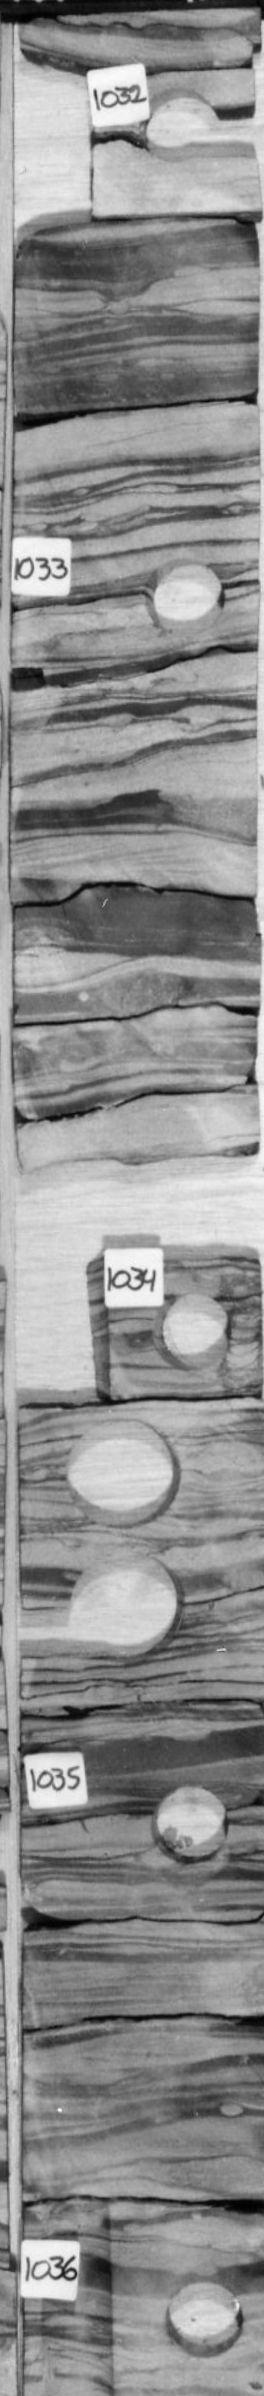hplug: (61, 1546, 188, 1672), (140, 546, 237, 640), (148, 1771, 237, 1873), (159, 2271, 253, 2365), (143, 1287, 238, 1375), (136, 86, 223, 167)
scal: (56, 1410, 186, 1534)
vplug: (31, 2194, 121, 2396), (18, 1256, 121, 1420), (21, 41, 101, 235)
